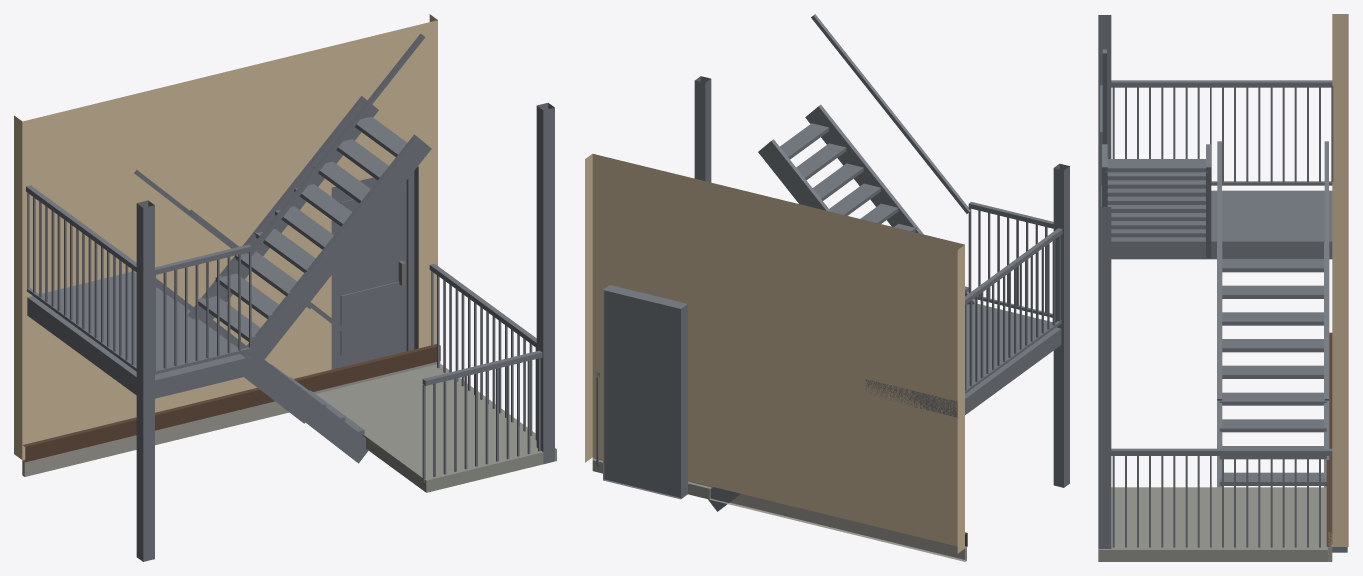
The model's file is base-stair_close.fbx.
The picture shows the model from 3 angles, left to right: view 1: azimuth 30°, elevation 25°; view 2: azimuth 150°, elevation 25°; view 3: azimuth 270°, elevation 25°; orthographic projection. The views are drawn at different scales.
Visible parts, largest first — view 1: a2009/200/base-stair_close; view 2: a2009/200/base-stair_close; view 3: a2009/200/base-stair_close.
Part boxes in pixels (x1,y1,x2,y2): a2009/200/base-stair_close: [14, 14, 556, 561]; a2009/200/base-stair_close: [585, 14, 1069, 561]; a2009/200/base-stair_close: [1098, 14, 1348, 561].
Size of the model in its own units: 4.3 by 4.64 by 2.28.
